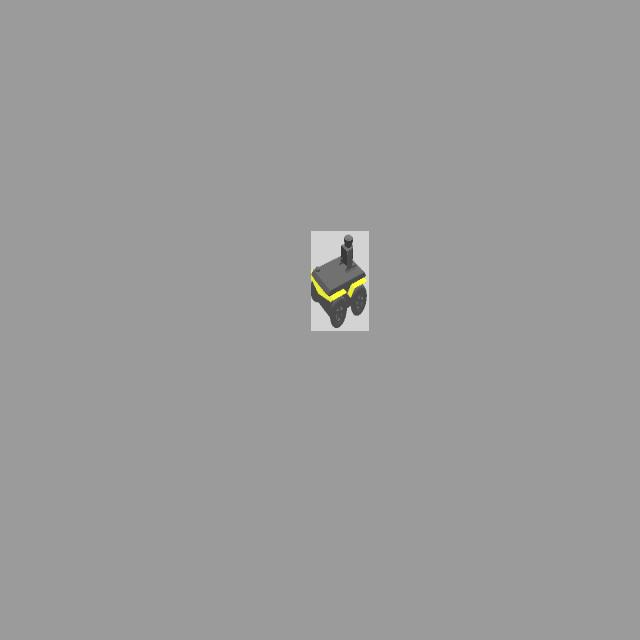jackal: (312, 231, 369, 331)
